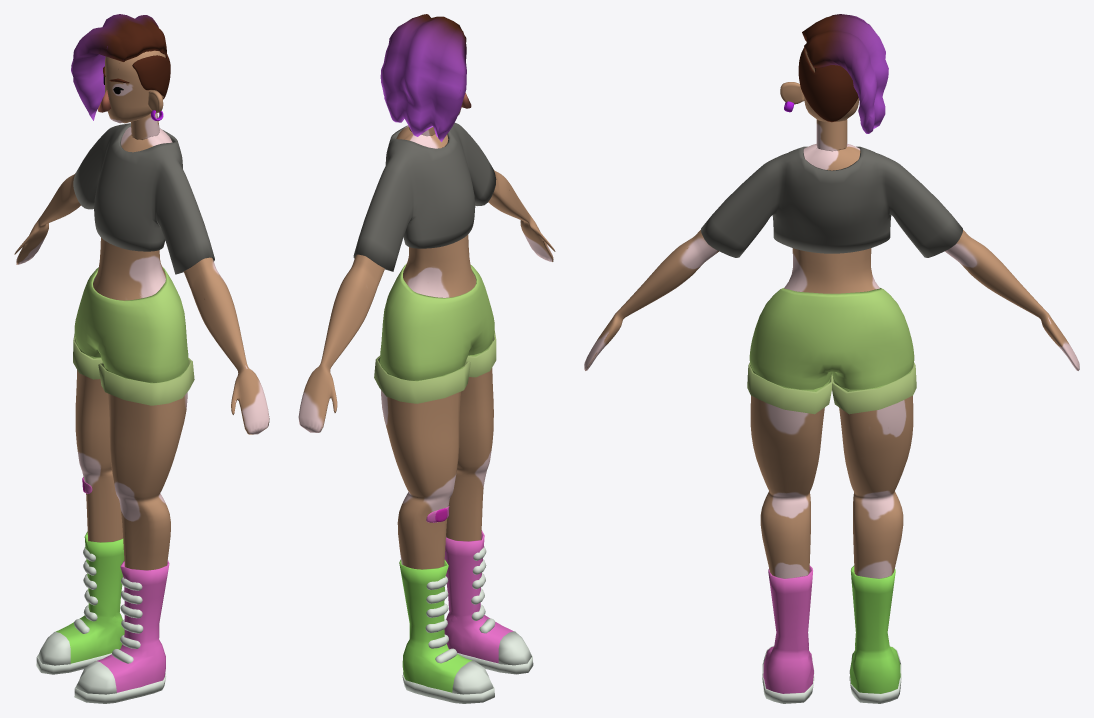
The model's file is clara-colorida-3.fbx.
3 renders of one model, left to right at view 1: azimuth 30°, elevation 25°; view 2: azimuth 150°, elevation 25°; view 3: azimuth 270°, elevation 25°, orthographic. The views are drawn at different scales.
Parts seen in each view (by area): view 1: Top.001; view 2: Top.001; view 3: Top.001.
Boxes of the visible parts, x1=… form: Top.001: x1=14, y1=14, x2=269, y2=703; Top.001: x1=298, y1=14, x2=555, y2=703; Top.001: x1=584, y1=14, x2=1079, y2=703.
Bounding box in the file's own units: 98.63 × 519 × 342.
16 materials, 3 textured.
